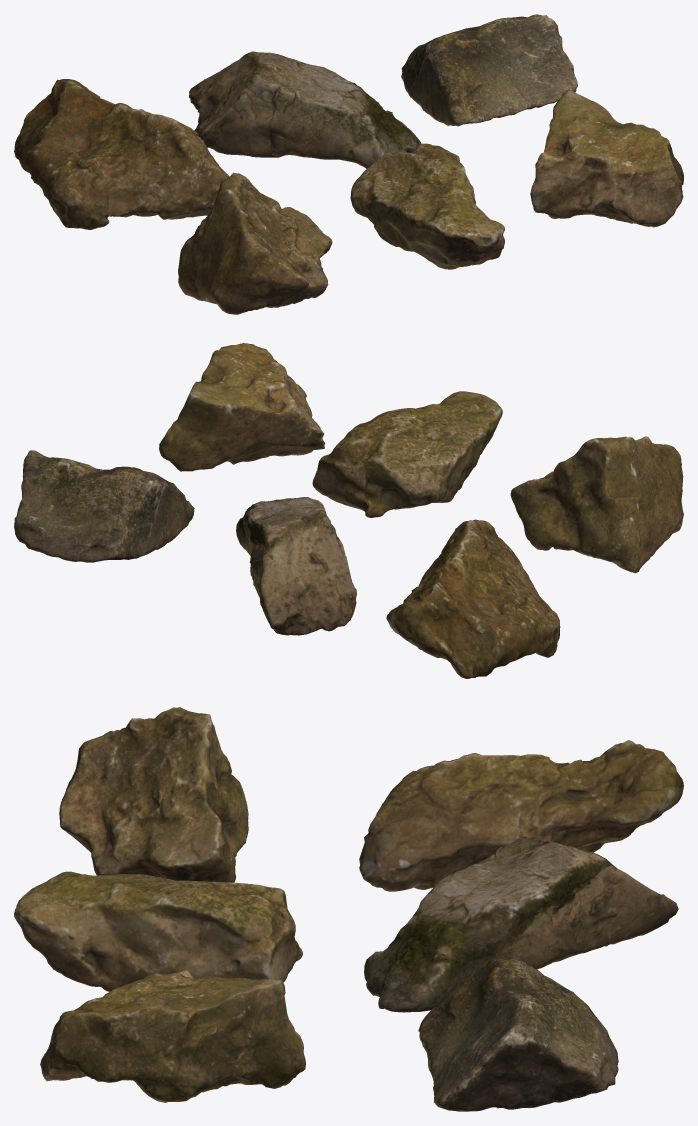
The model's file is rock_moss_set_01.glb.
The picture shows the model from 3 angles, top to bottom: view 1: azimuth 30°, elevation 25°; view 2: azimuth 150°, elevation 25°; view 3: azimuth 270°, elevation 25°; orthographic projection. The views are drawn at different scales.
Parts seen in each view (by area): view 1: rock_moss_set_01_rock01, rock_moss_set_01_rock02, rock_moss_set_01_rock06, rock_moss_set_01_rock04, rock_moss_set_01_rock03, rock_moss_set_01_rock05; view 2: rock_moss_set_01_rock04, rock_moss_set_01_rock01, rock_moss_set_01_rock05, rock_moss_set_01_rock03, rock_moss_set_01_rock06, rock_moss_set_01_rock02; view 3: rock_moss_set_01_rock01, rock_moss_set_01_rock02, rock_moss_set_01_rock05, rock_moss_set_01_rock04, rock_moss_set_01_rock06, rock_moss_set_01_rock03.
Boxes of the visible parts, x1,y1,x2,y2 form: rock_moss_set_01_rock01: [14, 79, 229, 229]; rock_moss_set_01_rock02: [189, 51, 421, 168]; rock_moss_set_01_rock06: [530, 89, 683, 227]; rock_moss_set_01_rock04: [178, 172, 332, 314]; rock_moss_set_01_rock03: [401, 14, 577, 126]; rock_moss_set_01_rock05: [350, 143, 504, 269]; rock_moss_set_01_rock04: [510, 436, 683, 573]; rock_moss_set_01_rock01: [386, 519, 560, 678]; rock_moss_set_01_rock05: [312, 391, 502, 517]; rock_moss_set_01_rock03: [14, 450, 194, 562]; rock_moss_set_01_rock06: [159, 343, 324, 471]; rock_moss_set_01_rock02: [236, 497, 356, 635]; rock_moss_set_01_rock01: [359, 740, 683, 891]; rock_moss_set_01_rock02: [364, 836, 678, 1012]; rock_moss_set_01_rock05: [14, 871, 302, 991]; rock_moss_set_01_rock04: [59, 707, 248, 882]; rock_moss_set_01_rock06: [40, 970, 305, 1102]; rock_moss_set_01_rock03: [418, 956, 618, 1111].
Bounding box in the file's own units: 8.01 × 1.77 × 6.95.
1 material, 1 textured.
